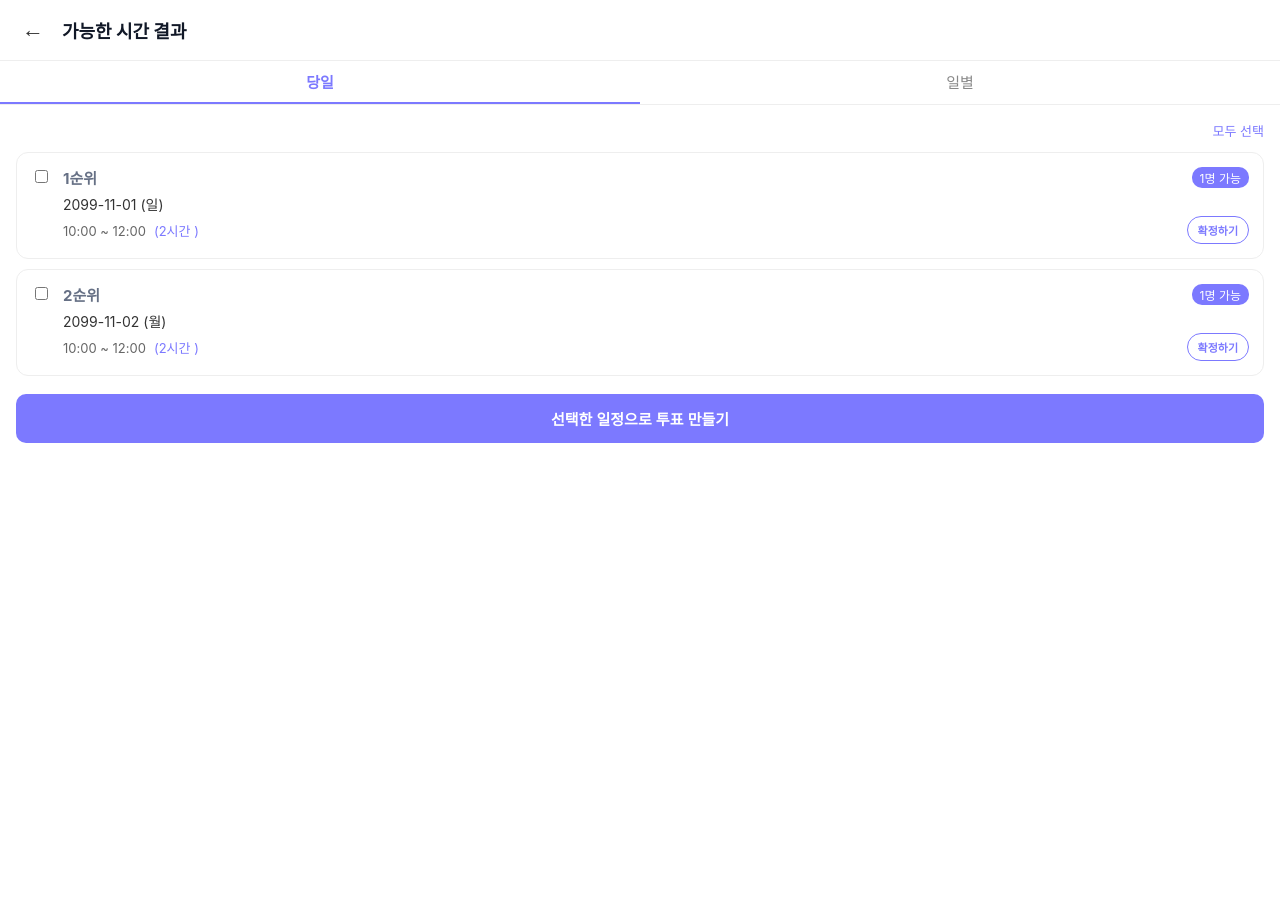
it: 제목 누락과 저장 실패를 안내하고 취소하면 저장하지 않는다
Click the 1st button "확정하기" at (1218, 230), box [1186,216,1249,244]
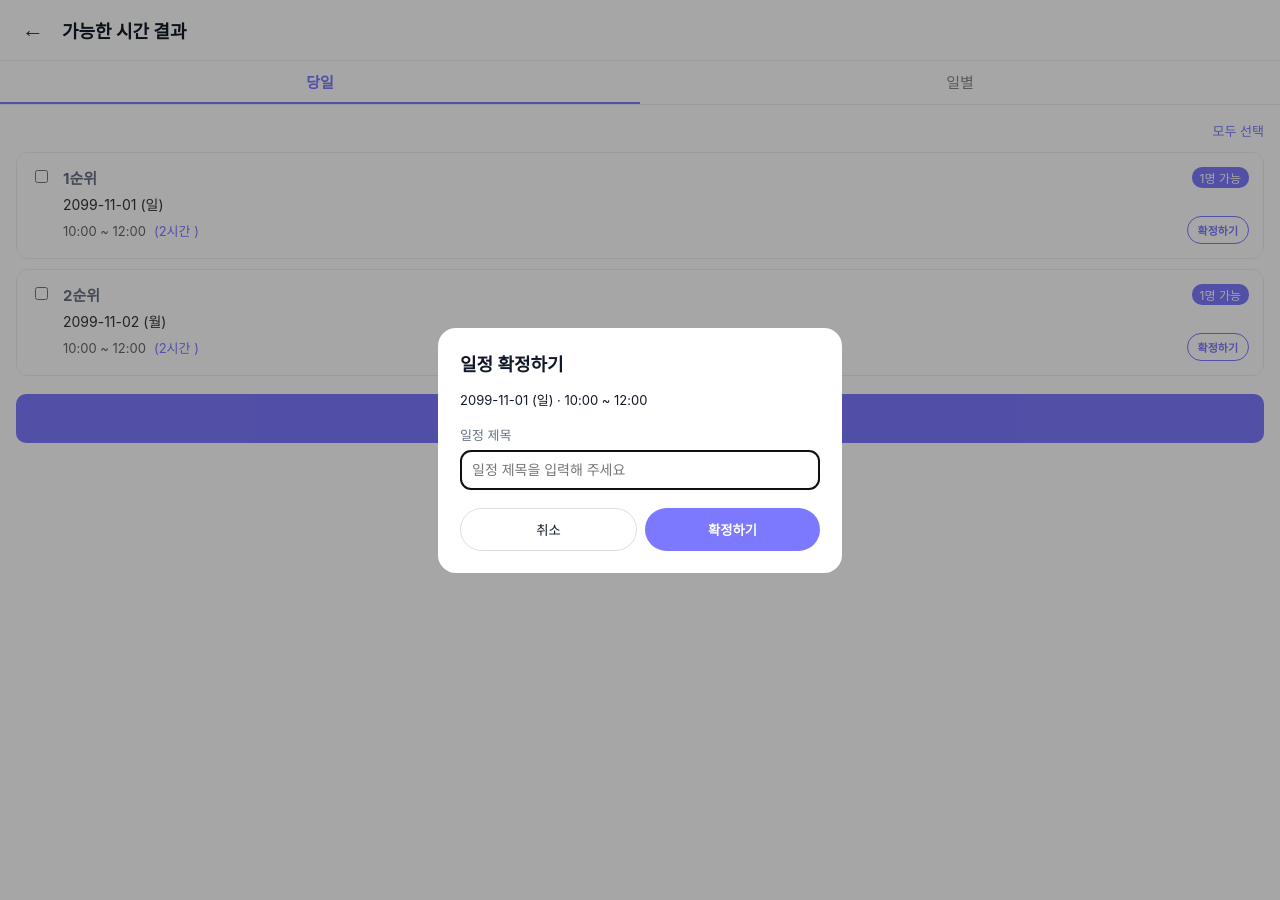
Click the button "확정하기" at (732, 529), box [645,508,820,550]
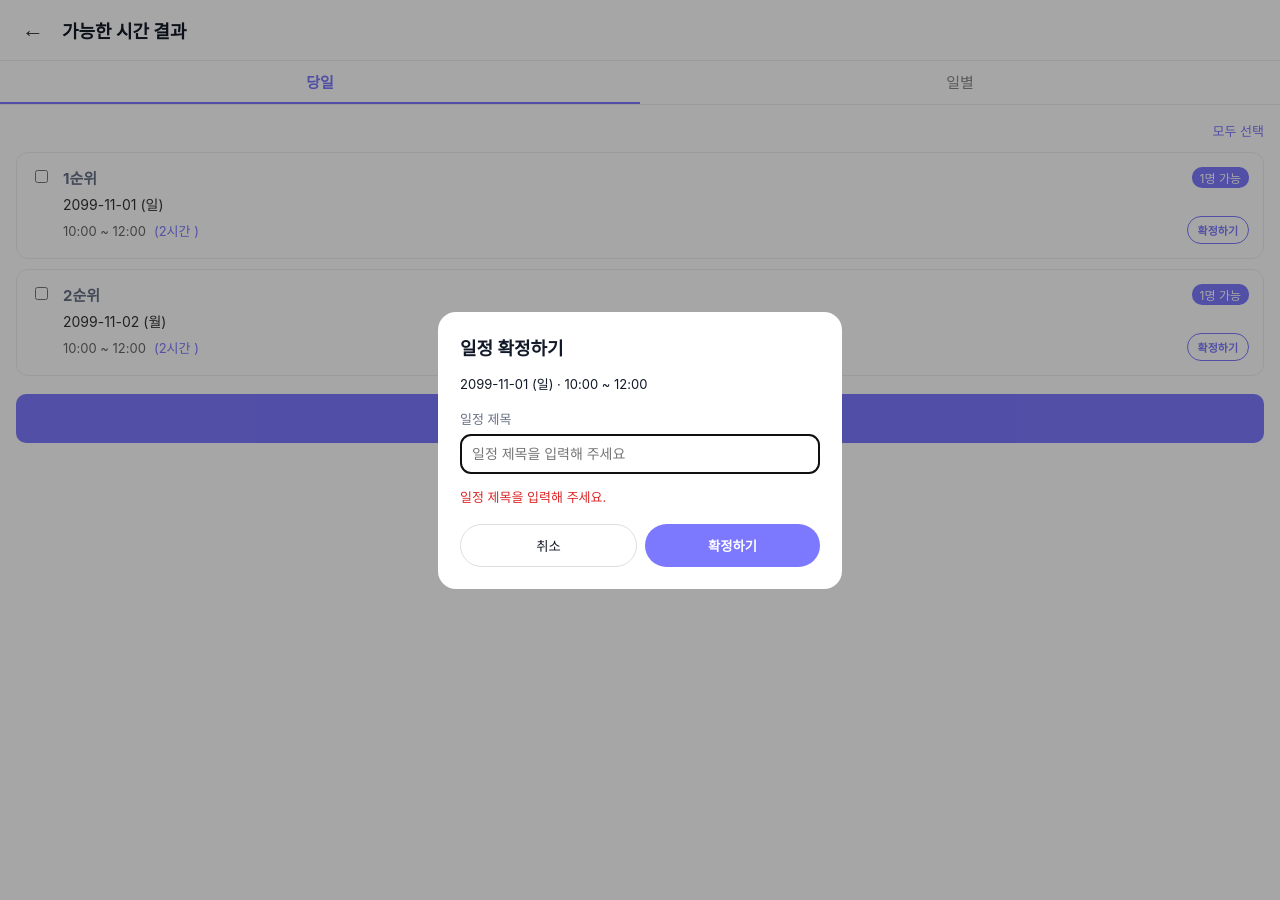
Now the message shows "제목", box [460,488,606,504]
Type "약속" into the field labelled "일정 제목" at (640, 454), box [460,434,820,474]
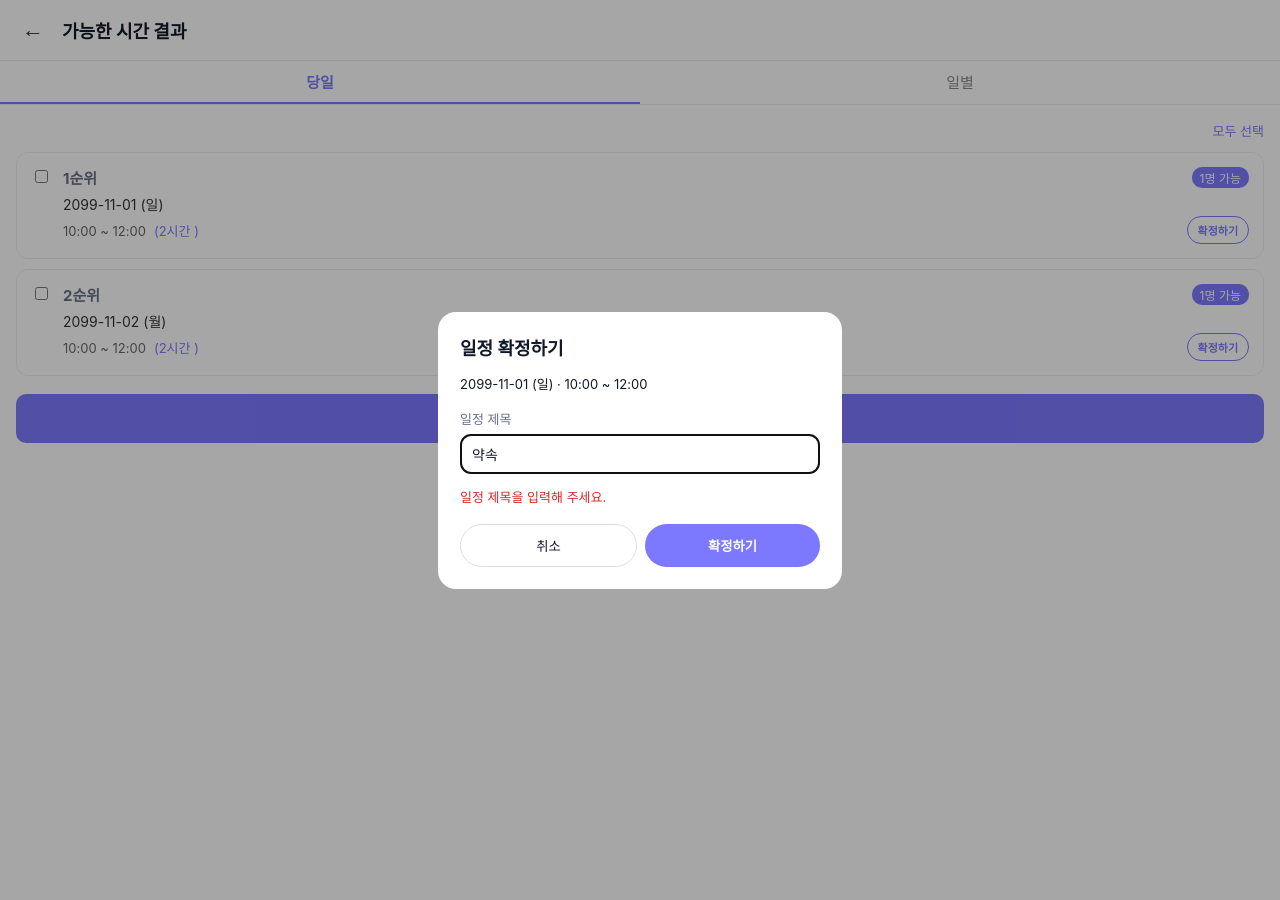
Click the button "확정하기" at (732, 545), box [645,524,820,566]
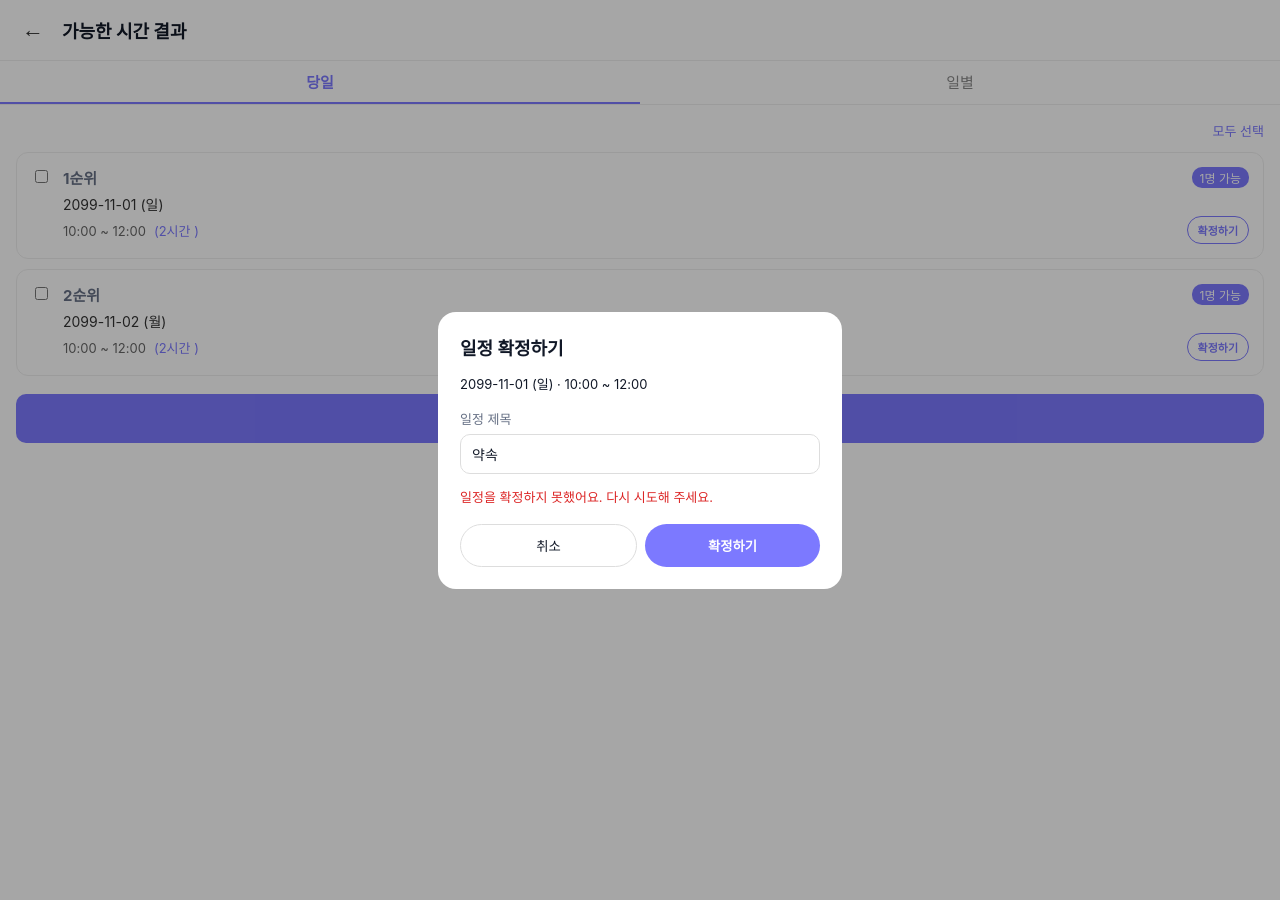
Now the message shows "확정하지 못했어요", box [460,488,713,504]
Click the button "취소" at (548, 545), box [460,524,637,566]
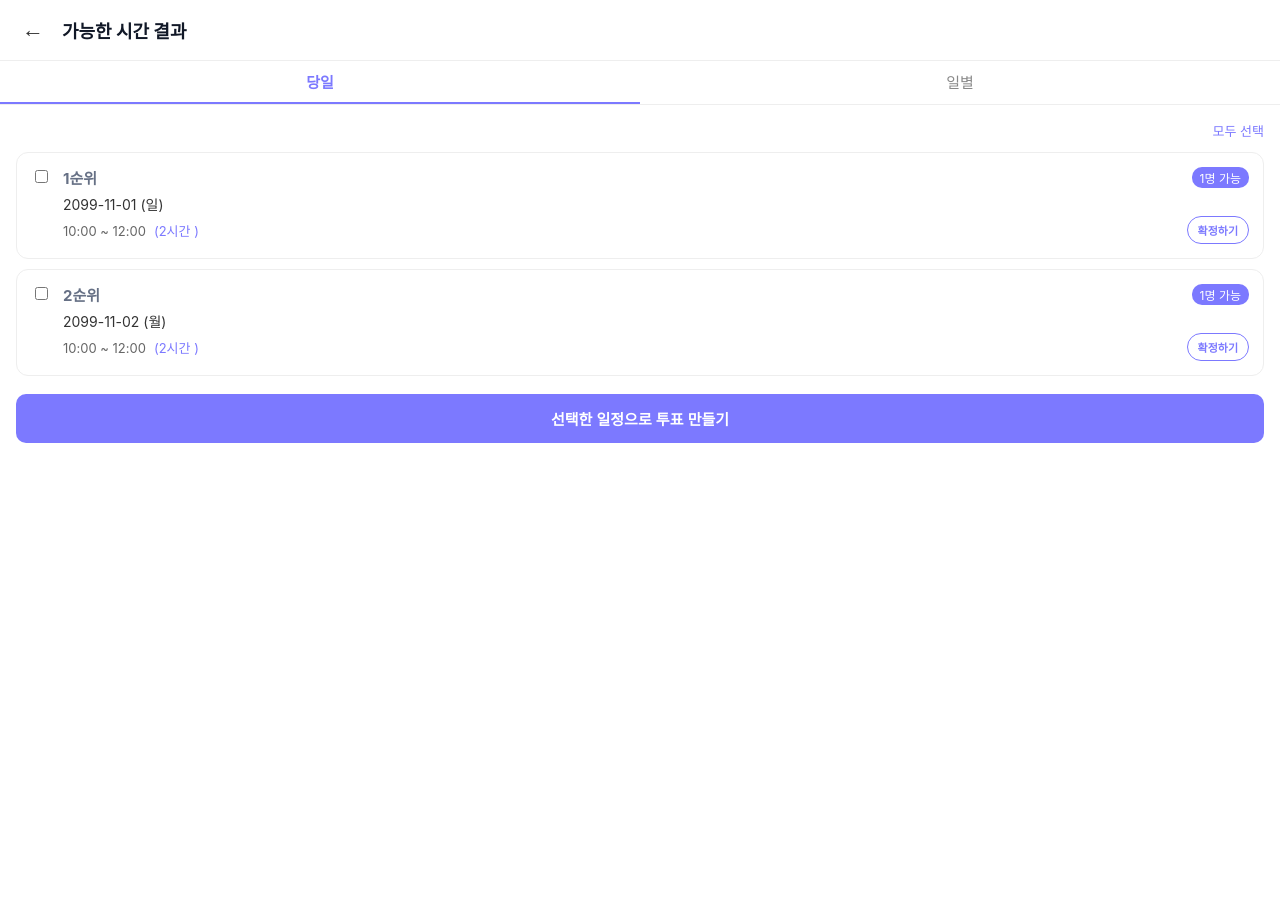
Now the dialog is gone
